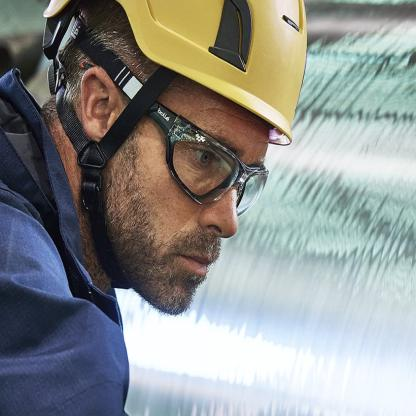oculos: (156, 104, 268, 218)
